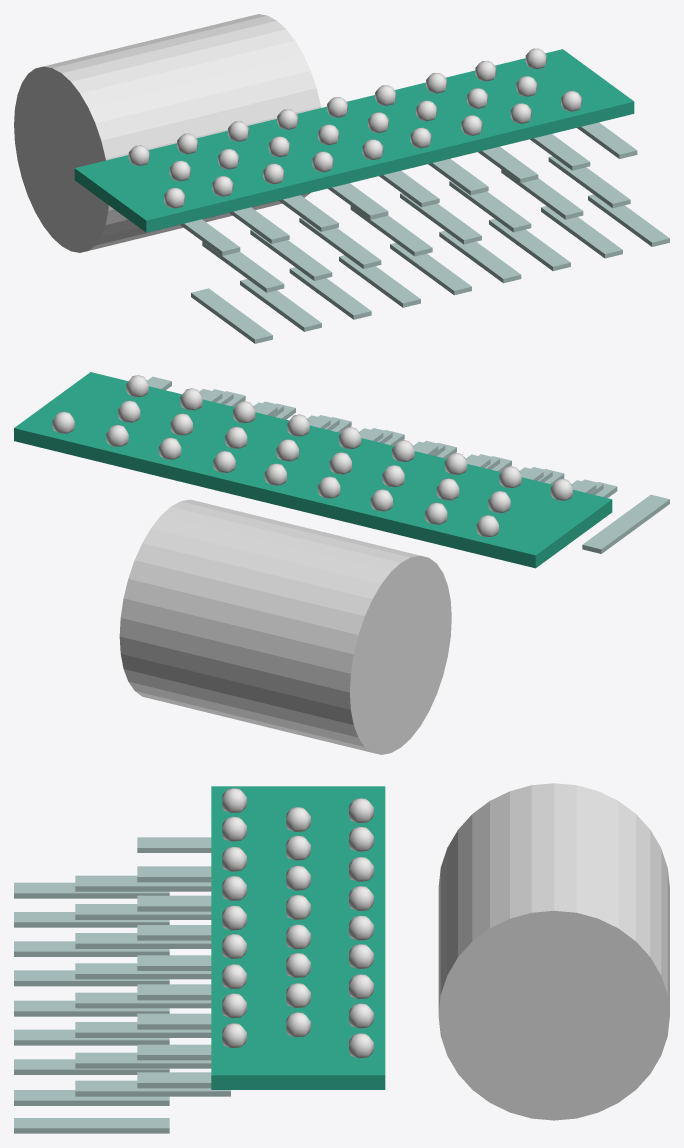
File: Chiffriermaschine_Enigma_Inner.fbx
The picture shows the model from 3 angles, top to bottom: view 1: azimuth 30°, elevation 25°; view 2: azimuth 150°, elevation 25°; view 3: azimuth 270°, elevation 25°; orthographic projection. The views are drawn at different scales.
Visible parts, largest first — view 1: Cylinder, Cube, Tasten.018, Tasten.019, Tasten.023, Tasten.020, Tasten.024, Tasten.022, Tasten.026, Tasten.025, Tasten.021, Tasten.017 (+16 smaller); view 2: Cylinder, Cube, Tasten.018; view 3: Cylinder, Cube, Tasten.026, Tasten.025, Tasten.017, Tasten.010, Tasten.022, Tasten.023, Tasten.021, Tasten.013, Tasten.016, Tasten.014 (+42 smaller).
Part boxes in pixels (box(x1,y1,x2,y2)): Cylinder: box(14, 14, 321, 252); Cube: box(74, 49, 634, 232); Tasten.018: box(191, 288, 272, 343); Tasten.019: box(240, 279, 321, 331); Tasten.023: box(439, 231, 521, 283); Tasten.020: box(289, 267, 371, 319); Tasten.024: box(489, 218, 570, 271); Tasten.022: box(390, 242, 471, 295); Tasten.026: box(588, 194, 669, 246); Tasten.025: box(541, 206, 622, 258); Tasten.021: box(339, 255, 420, 307); Tasten.017: box(548, 156, 630, 208); Cylinder: box(119, 499, 451, 754); Cube: box(14, 372, 612, 568); Tasten.018: box(582, 494, 669, 553); Cylinder: box(438, 783, 669, 1120); Cube: box(211, 786, 385, 1089); Tasten.026: box(14, 1118, 169, 1133); Tasten.025: box(14, 1090, 169, 1105); Tasten.017: box(75, 1080, 230, 1096); Tasten.010: box(75, 875, 211, 891); Tasten.022: box(14, 1000, 169, 1016); Tasten.023: box(14, 1029, 169, 1045); Tasten.021: box(14, 970, 169, 986); Tasten.013: box(75, 963, 211, 979); Tasten.016: box(75, 1052, 211, 1068); Tasten.014: box(75, 992, 211, 1008).
Bounding box in the file's own units: 23.57 × 7.98 × 22.6.
